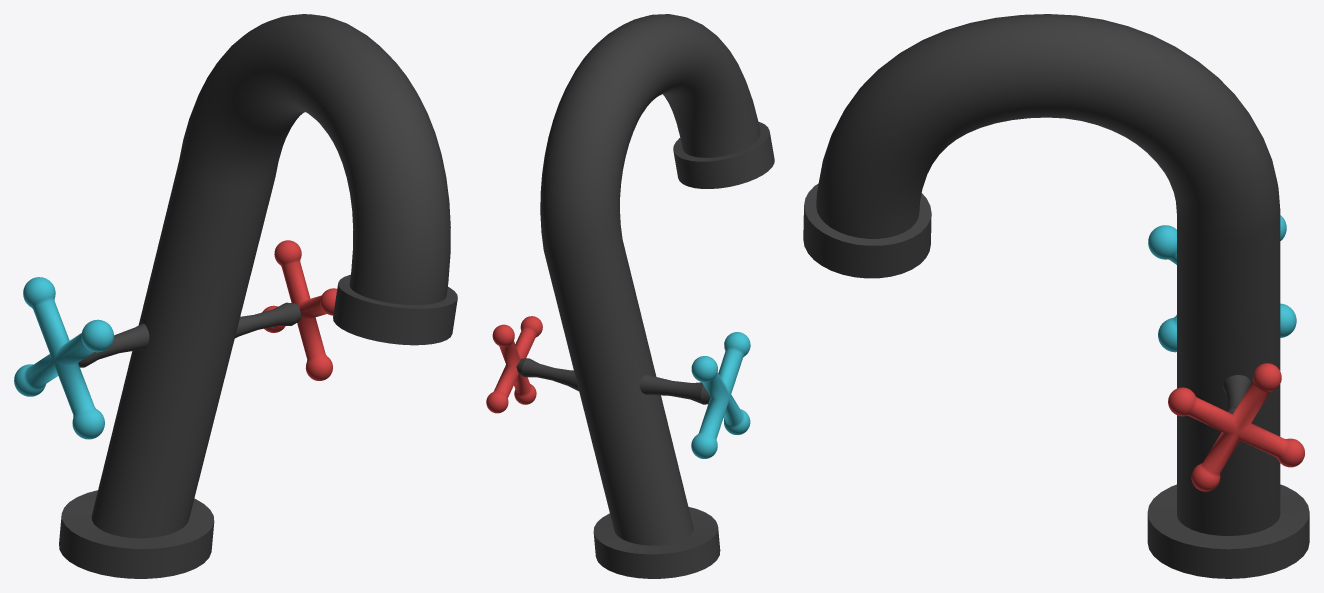
File: 3D_Crane.FBX
3 renders of one model, left to right at view 1: azimuth 30°, elevation 25°; view 2: azimuth 150°, elevation 25°; view 3: azimuth 270°, elevation 25°, orthographic. The views are drawn at different scales.
Parts seen in each view (by area): view 1: 3D_Crane; view 2: 3D_Crane; view 3: 3D_Crane.
Boxes of the visible parts, x1,y1,x2,y2 form: 3D_Crane: (14, 14, 457, 578); 3D_Crane: (486, 14, 774, 578); 3D_Crane: (803, 14, 1309, 578).
Size of the model in its own units: 57.55 by 107 by 84.05.
